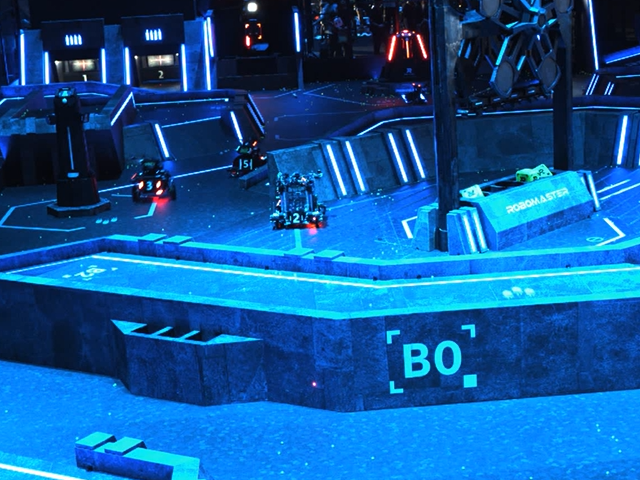rm: (274, 171, 325, 227), (131, 162, 179, 203), (232, 138, 268, 179), (404, 81, 428, 105)
